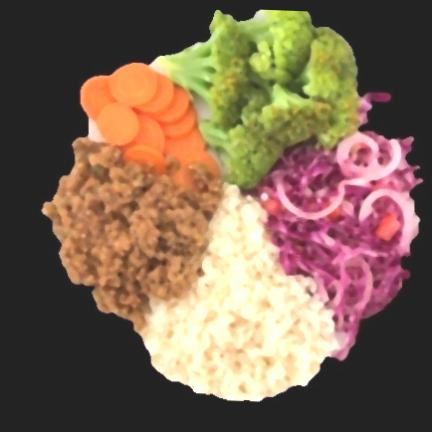broccoli: (157, 10, 358, 189)
carrot: (80, 63, 218, 184)
meat: (42, 138, 220, 331)
rice: (141, 185, 335, 401)
